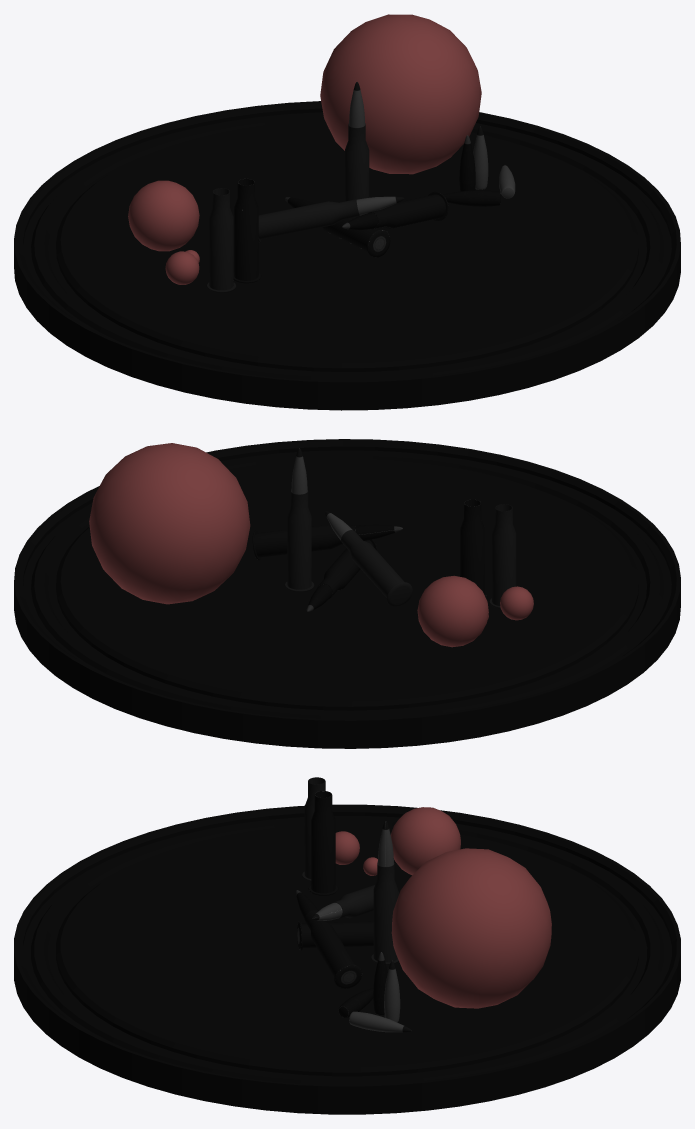
The model's file is bullet_7.62_v1.4.glb.
The picture shows the model from 3 angles, top to bottom: view 1: azimuth 30°, elevation 25°; view 2: azimuth 150°, elevation 25°; view 3: azimuth 270°, elevation 25°; orthographic projection.
Visible parts, largest first — view 1: Platform, GeoSphere, Shell01, Shell02, Bullet01, Bullet02; view 2: Platform, GeoSphere, Shell01, Shell02, Bullet02, Bullet01; view 3: Platform, GeoSphere, Shell02, Shell01, Bullet01, Bullet02.
Boxes of the visible parts, left/top/right/bottom form: Platform: left=14, top=101, right=680, bottom=410; GeoSphere: left=128, top=14, right=481, bottom=284; Shell01: left=206, top=123, right=369, bottom=292; Shell02: left=233, top=178, right=448, bottom=283; Bullet01: left=349, top=82, right=515, bottom=215; Bullet02: left=285, top=135, right=500, bottom=230; Platform: left=14, top=439, right=680, bottom=748; GeoSphere: left=89, top=443, right=533, bottom=647; Shell01: left=284, top=490, right=516, bottom=608; Shell02: left=252, top=499, right=487, bottom=598; Bullet02: left=307, top=524, right=402, bottom=611; Bullet01: left=291, top=448, right=352, bottom=540; Platform: left=14, top=804, right=680, bottom=1114; GeoSphere: left=335, top=807, right=551, bottom=1008; Shell02: left=297, top=791, right=373, bottom=988; Shell01: left=302, top=777, right=398, bottom=964; Bullet01: left=312, top=821, right=411, bottom=1032; Bullet02: left=296, top=890, right=387, bottom=1017.
Size of the model in its own units: 16.78 by 4.86 by 16.78.
6 materials, 4 textured.
